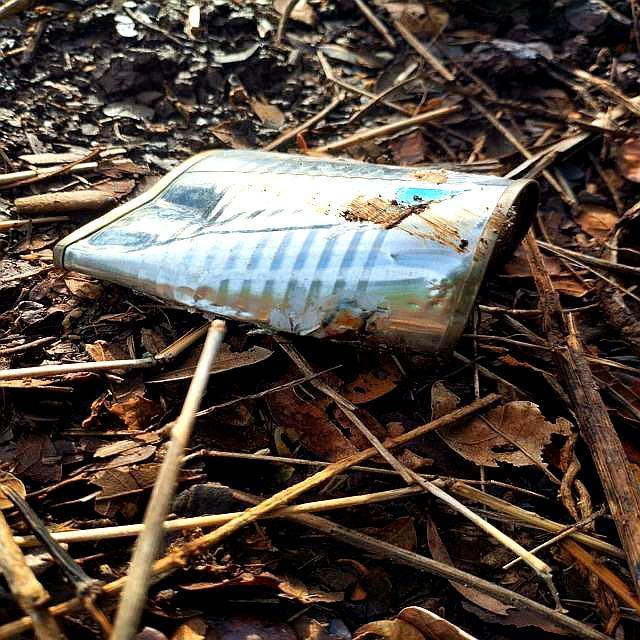Non-biodegradable: (52, 145, 543, 360)
